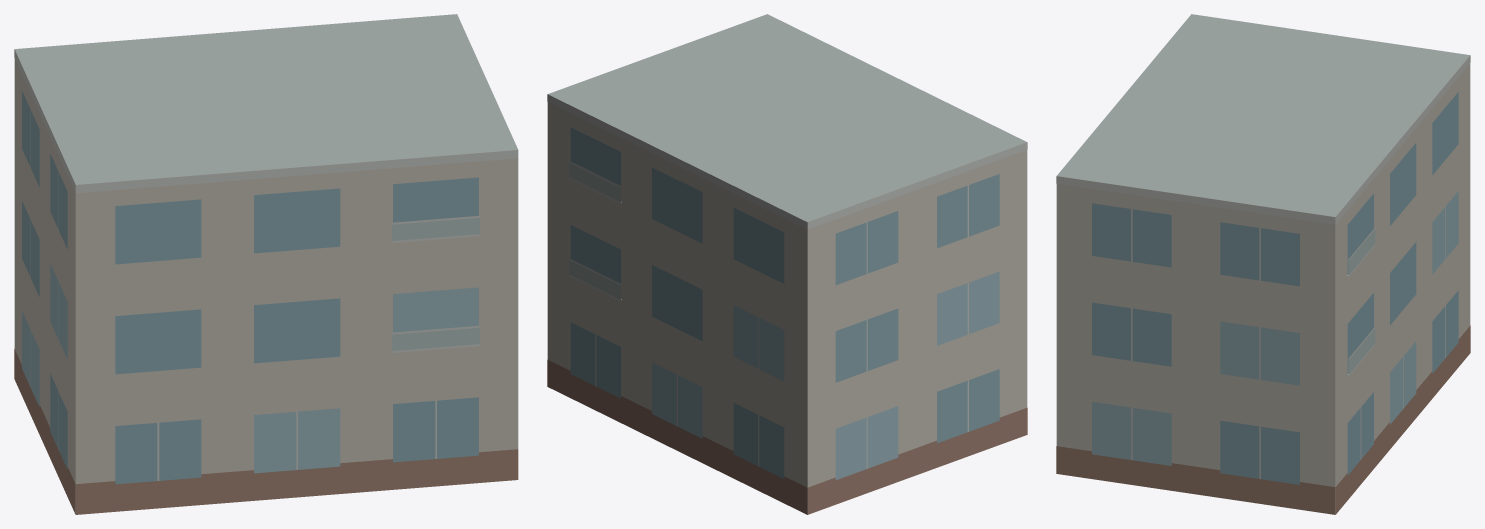
The model's file is survey-upis-32812863.glb.
The picture shows the model from 3 angles, left to right: view 1: azimuth 30°, elevation 25°; view 2: azimuth 150°, elevation 25°; view 3: azimuth 270°, elevation 25°; orthographic projection. The views are drawn at different scales.
Parts seen in each view (by area): view 1: survey-upis-32812863.tmp; view 2: survey-upis-32812863.tmp; view 3: survey-upis-32812863.tmp.
Part boxes in pixels (x1=…): survey-upis-32812863.tmp: x1=14, y1=14, x2=518, y2=514; survey-upis-32812863.tmp: x1=547, y1=14, x2=1027, y2=514; survey-upis-32812863.tmp: x1=1056, y1=14, x2=1470, y2=514.
Bounding box in the file's own units: 14.2 × 9.7 × 12.23.
